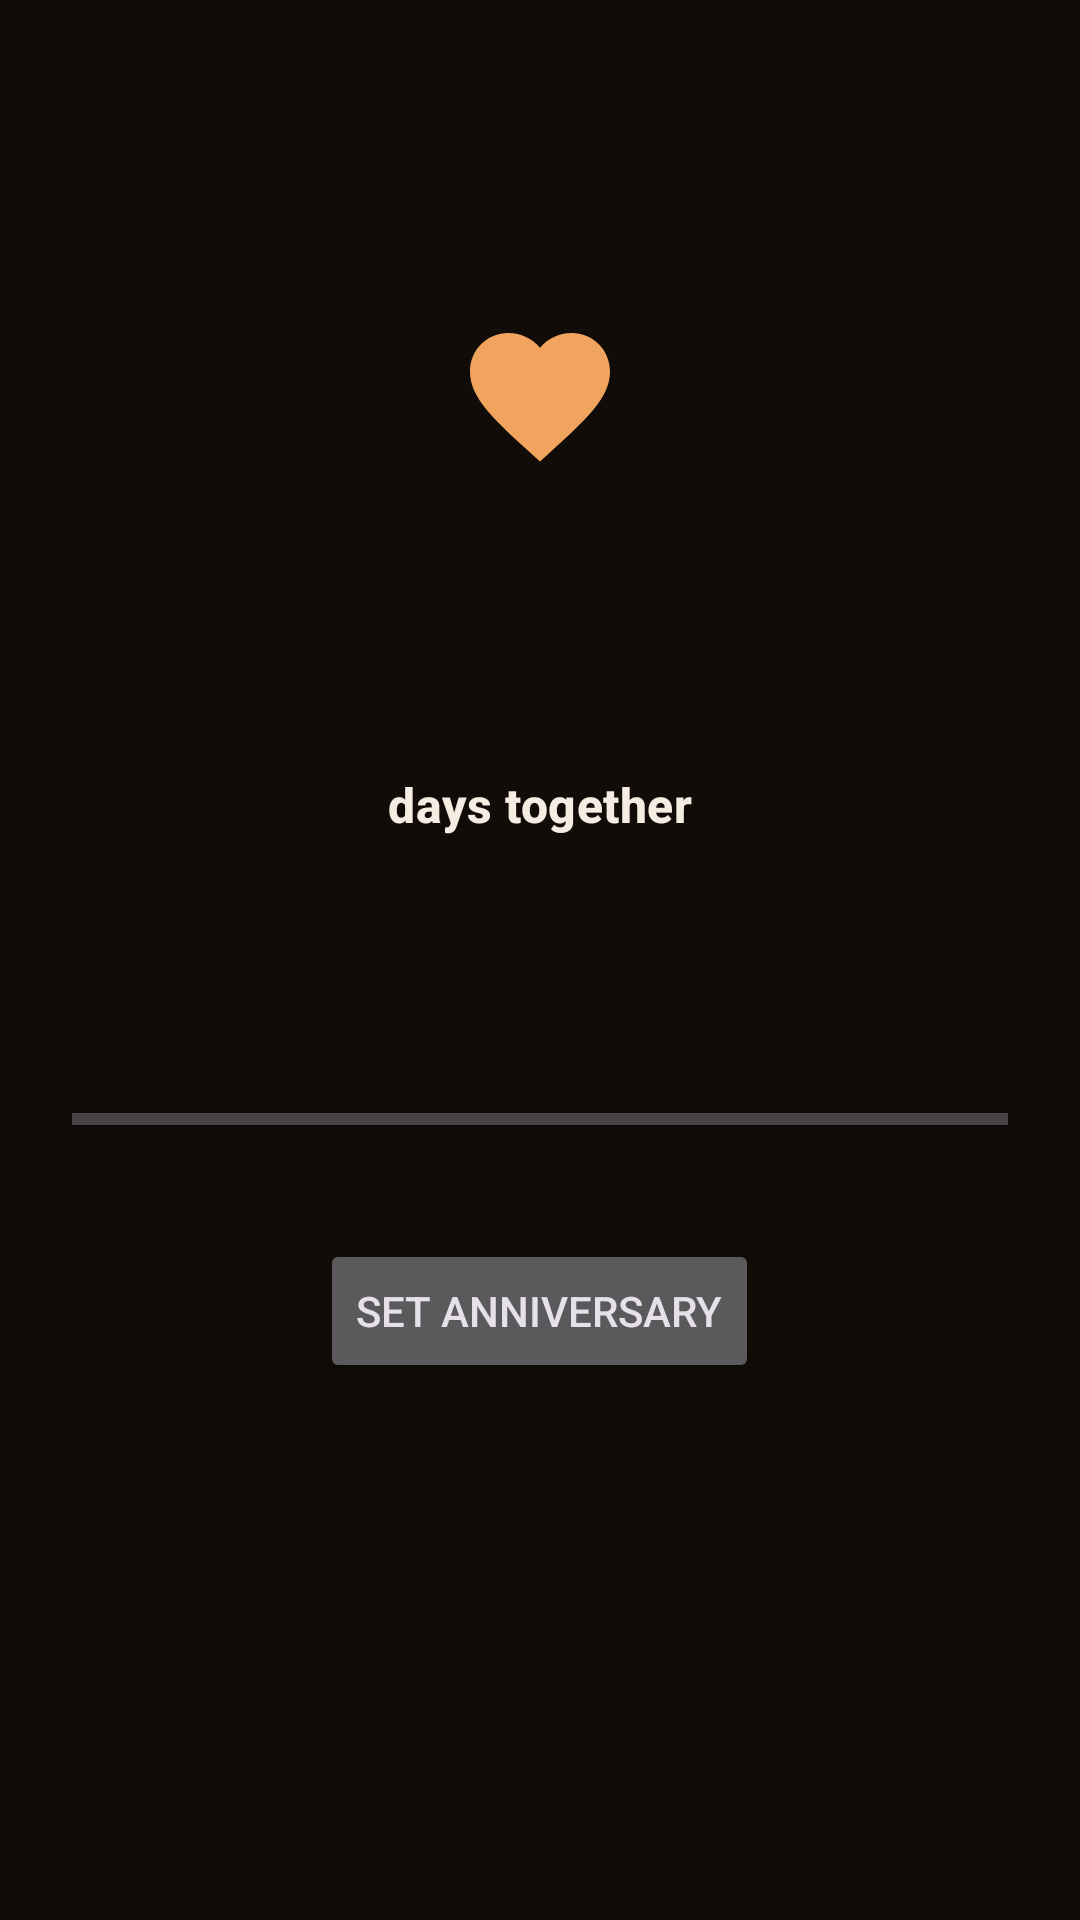

Locate icon controls on the screen. Image size 1080px×1920px, boxes as [x1, y1, x2, y2].
heart: [470, 333, 610, 462]
